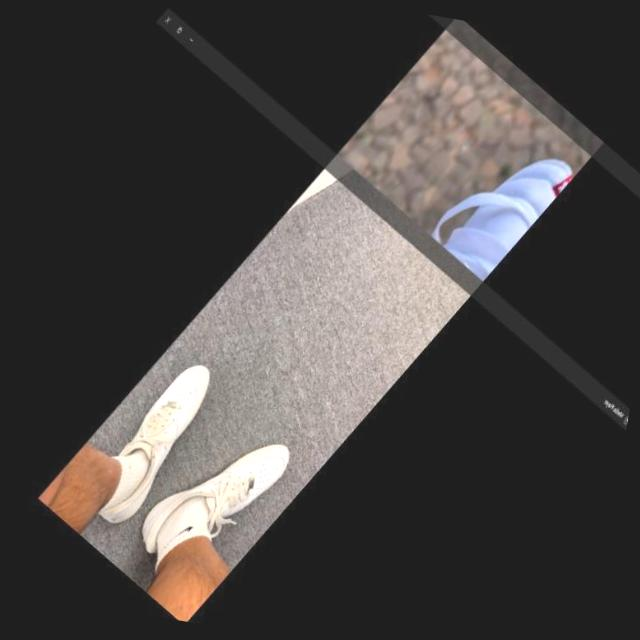nike_original_airforce: (121, 390, 304, 600), (69, 340, 242, 548)
